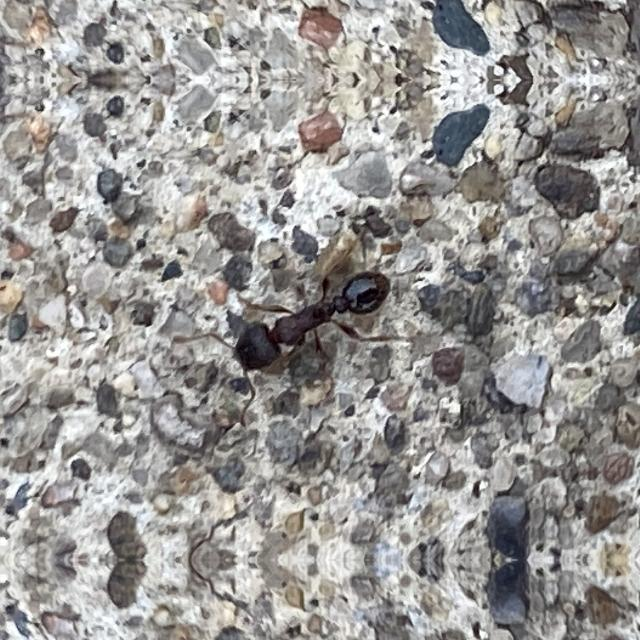Tetramorium: (205, 228, 412, 400)
